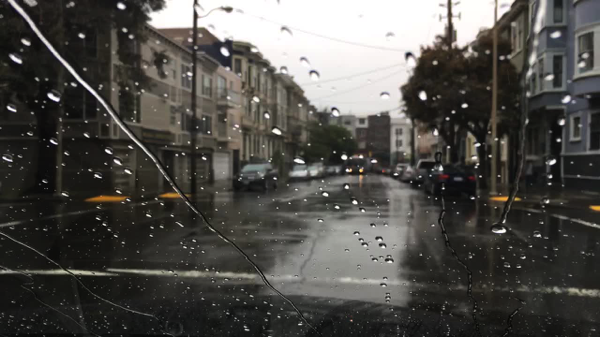bus: (344, 156, 368, 176)
car: (425, 165, 477, 197), (234, 162, 279, 194), (413, 157, 437, 184), (288, 164, 309, 181), (390, 164, 404, 180), (400, 169, 414, 182), (308, 166, 322, 177), (316, 161, 324, 176), (333, 163, 342, 175), (326, 163, 334, 176), (373, 166, 381, 174), (381, 169, 390, 176)
